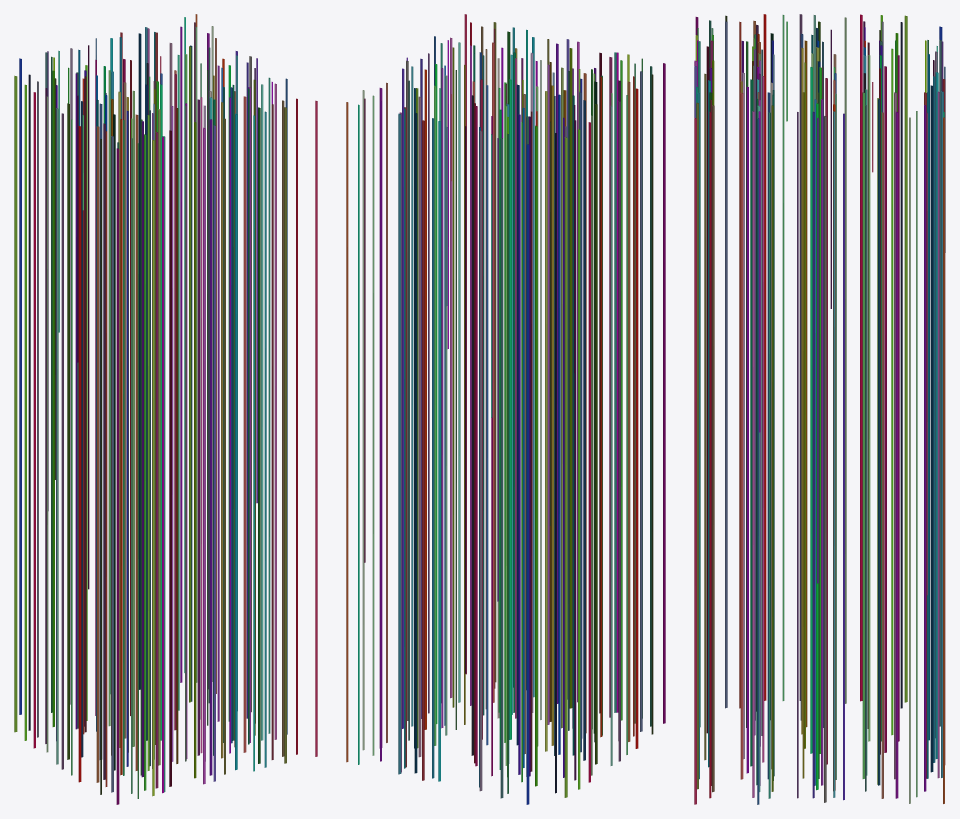
File: vert_trees.fbx
3 views of the same model, side by side, from view 1: azimuth 30°, elevation 25°; view 2: azimuth 150°, elevation 25°; view 3: azimuth 270°, elevation 25° (orthographic). The views are drawn at different scales.
Parts seen in each view (by area): view 1: uvlayout16; view 2: uvlayout16; view 3: uvlayout16.
Part boxes in pixels (bbox=[...]): uvlayout16: bbox=[14, 14, 317, 804]; uvlayout16: bbox=[346, 14, 665, 804]; uvlayout16: bbox=[694, 14, 945, 804].
Size of the model in its own units: 4072 by 12390 by 4114.
